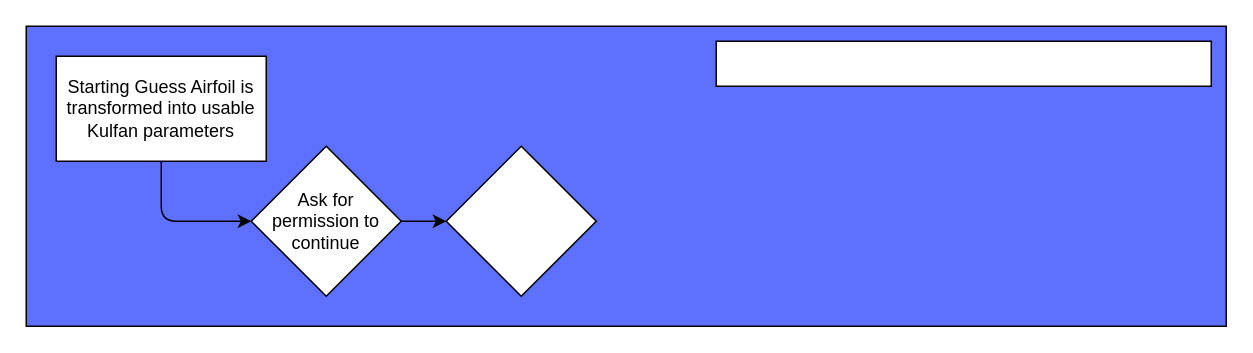
This 1253x353 diagram has some shape labels left out. Each missing label, with the centre of its shape:
"Display starting airfoil" goes at (x=520, y=220).
"Input and Initialization" goes at (x=963, y=63).
